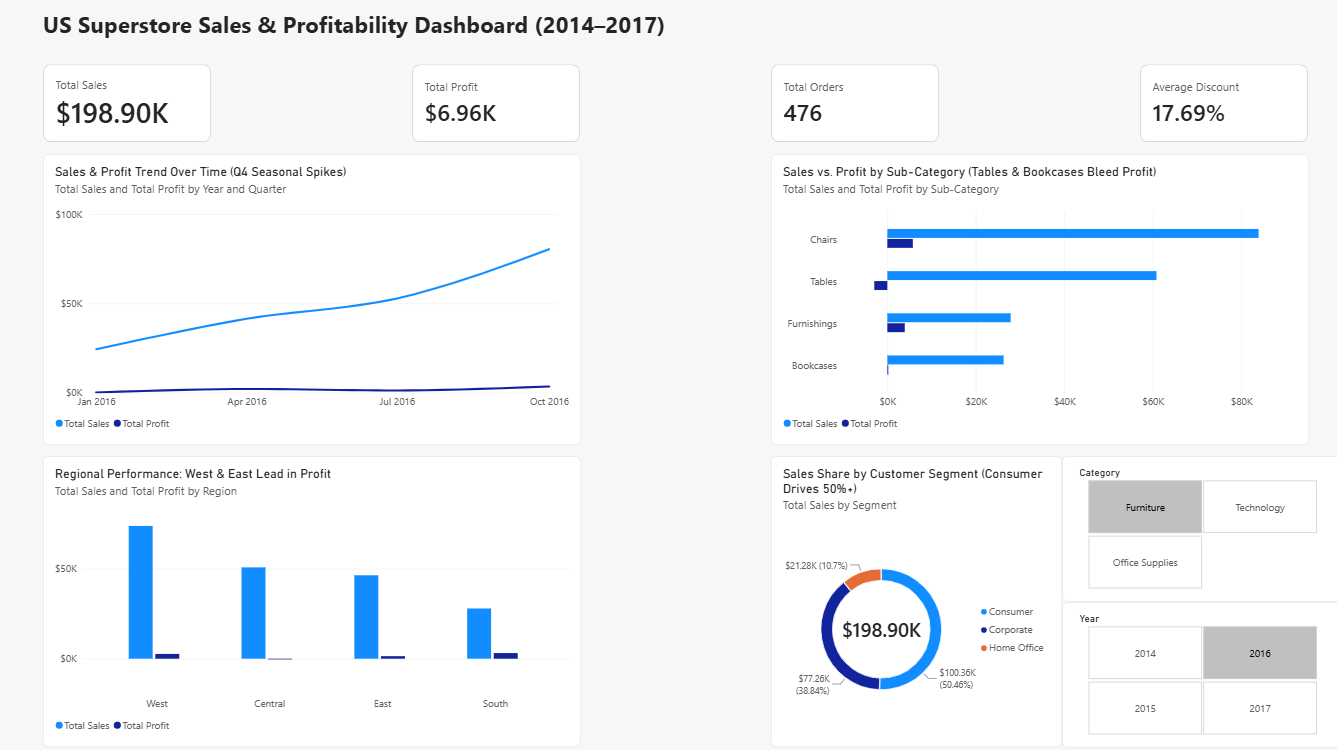

What the dashboard file says about the page in this screenshot:
{"tool":"powerbi","page":{"name":"Sales Overview","canvas":[1920,1080],"ordinal":0},"visuals":[{"type":"cardVisual","fields":{"Data":["Sample - Superstore.Total Sales"]},"box":[64,96,240,112],"z":0},{"type":"cardVisual","fields":{"Data":["Sample - Superstore.Total Profit"]},"box":[592,96,240,112],"z":1000},{"type":"cardVisual","fields":{"Data":["Sample - Superstore.Average Discount"]},"box":[1632,96,240,112],"z":2000},{"type":"cardVisual","fields":{"Data":["Sample - Superstore.Total Orders"]},"box":[1104,96,240,112],"z":3000},{"type":"lineChart","title":"Sales & Profit Trend Over Time (Q4 Seasonal Spikes)","fields":{"Category":["Sample - Superstore.Order Date.Variation.Date Hierarchy.Year","Sample - Superstore.Order Date.Variation.Date Hierarchy.Quarter","Sample - Superstore.Order Date.Variation.Date Hierarchy.Month"],"Y":["Sample - Superstore.Total Sales","Sample - Superstore.Total Profit"]},"box":[64,224,768,416],"z":4000},{"type":"clusteredBarChart","title":"Sales vs. Profit by Sub-Category (Tables & Bookcases Bleed Profit)","fields":{"Category":["Sample - Superstore.Sub-Category"],"Y":["Sample - Superstore.Total Sales","Sample - Superstore.Total Profit"]},"box":[1104,224,768,416],"z":5000},{"type":"clusteredColumnChart","title":"Regional Performance: West & East Lead in Profit","fields":{"Category":["Sample - Superstore.Region"],"Y":["Sample - Superstore.Total Sales","Sample - Superstore.Total Profit"]},"box":[64,656,768,416],"z":6000},{"type":"donutChart","title":"Sales Share by Customer Segment (Consumer Drives 50%+)","fields":{"Category":["Sample - Superstore.Segment"],"Y":["Sample - Superstore.Total Sales"]},"box":[1104,656,416,416],"z":7000},{"type":"slicer","fields":{"Values":["Sample - Superstore.Category"]},"box":[1520,656,400,208],"z":7001},{"type":"slicer","fields":{"Values":["Sample - Superstore.Order Date.Variation.Date Hierarchy.Year"]},"box":[1520,864,400,208],"z":7002},{"type":"textbox","box":[64,16,896,64],"z":7003}]}

Visuals, with their boxes in screenshot pixels (x1, y1, x2, y2), scaled from the page's 1920x1080 canvas onto the 1337x750 screenshot:
cardVisual - Sample - Superstore.Total Sales: box(45, 67, 212, 144)
cardVisual - Sample - Superstore.Total Profit: box(412, 67, 579, 144)
cardVisual - Sample - Superstore.Average Discount: box(1136, 67, 1304, 144)
cardVisual - Sample - Superstore.Total Orders: box(769, 67, 936, 144)
"Sales & Profit Trend Over Time (Q4 Seasonal Spikes)" lineChart: box(45, 156, 579, 444)
"Sales vs. Profit by Sub-Category (Tables & Bookcases Bleed Profit)" clusteredBarChart: box(769, 156, 1304, 444)
"Regional Performance: West & East Lead in Profit" clusteredColumnChart: box(45, 456, 579, 744)
"Sales Share by Customer Segment (Consumer Drives 50%+)" donutChart: box(769, 456, 1058, 744)
slicer - Sample - Superstore.Category: box(1058, 456, 1336, 600)
slicer - Sample - Superstore.Order Date.Variation.Date Hierarchy.Year: box(1058, 600, 1336, 744)
textbox: box(45, 11, 668, 56)
